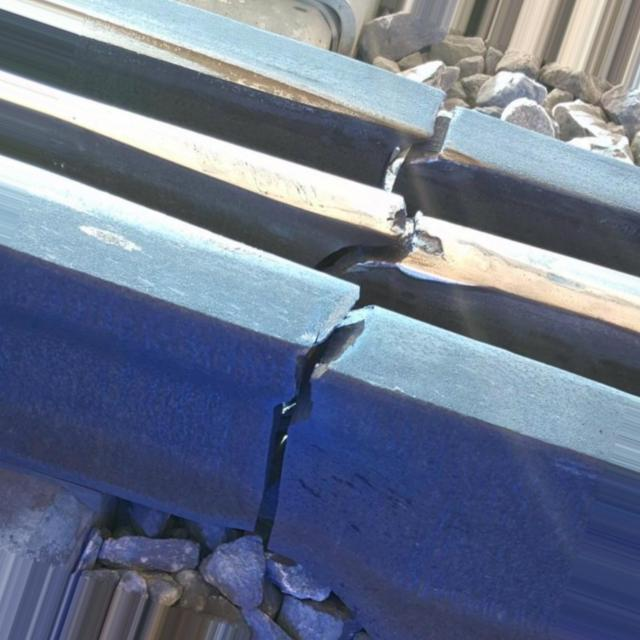crack: (180, 53, 518, 611)
